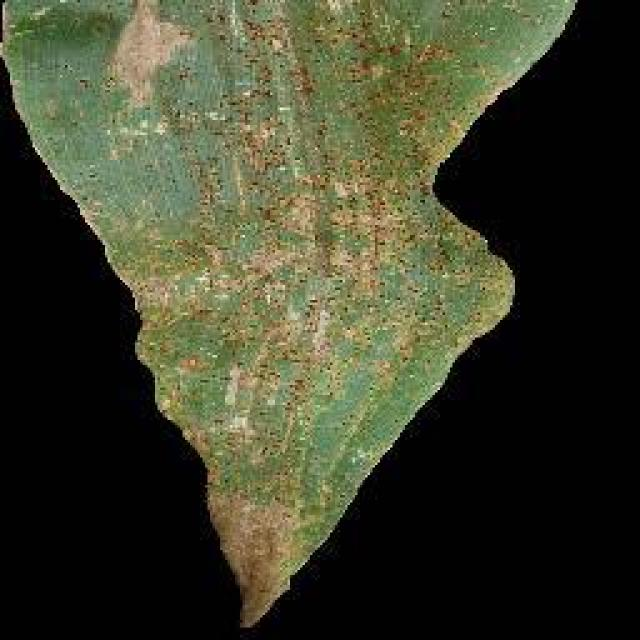Corn Common Rust: (192, 103, 450, 497)
